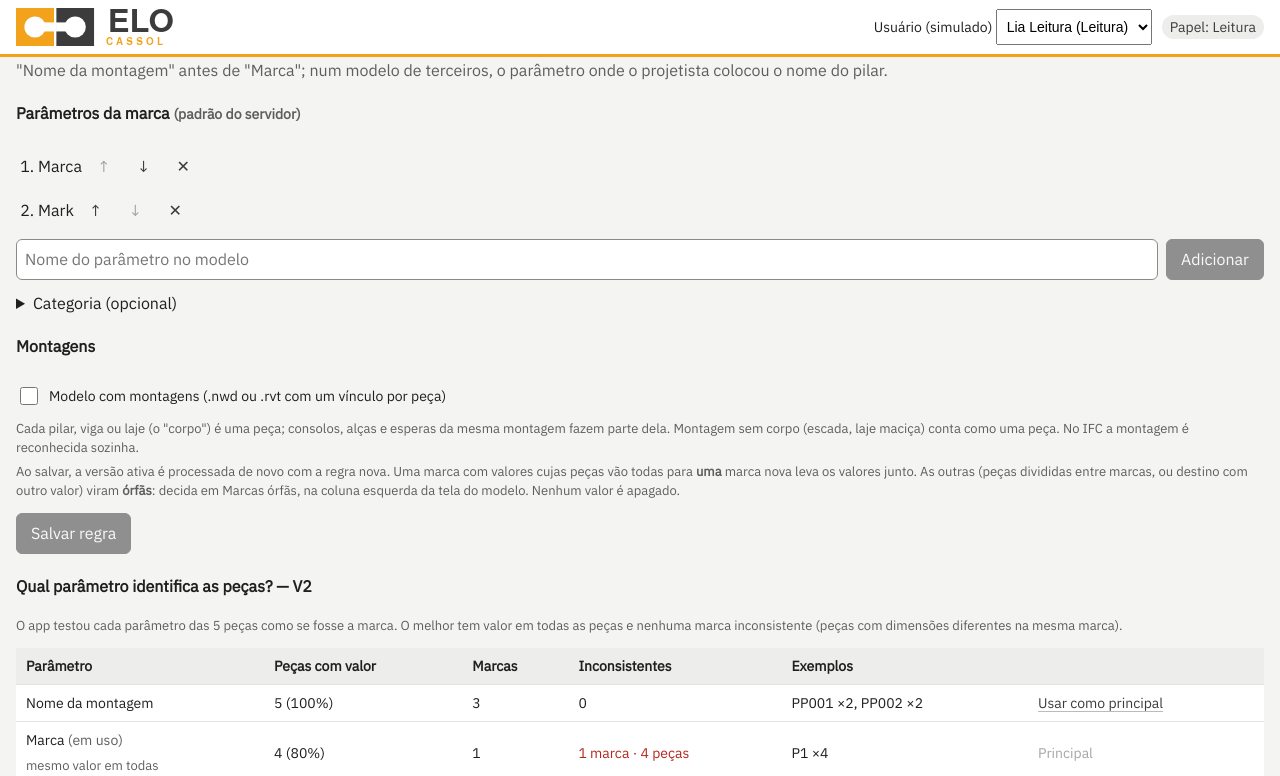
Aba Identificação das peças › mostra a regra e os candidatos da versão ativa; qualquer papel salva
(page scrolled)
Check: the text "(padrão do servidor)" is shown, box [173,105,301,123]
Check: the heading "Qual parâmetro identifica as peças? — V2" is shown, box [16,576,312,596]
Click the button with aria-label "Usar Nome da montagem como principal" at (1101, 703), box [1038,693,1163,713]
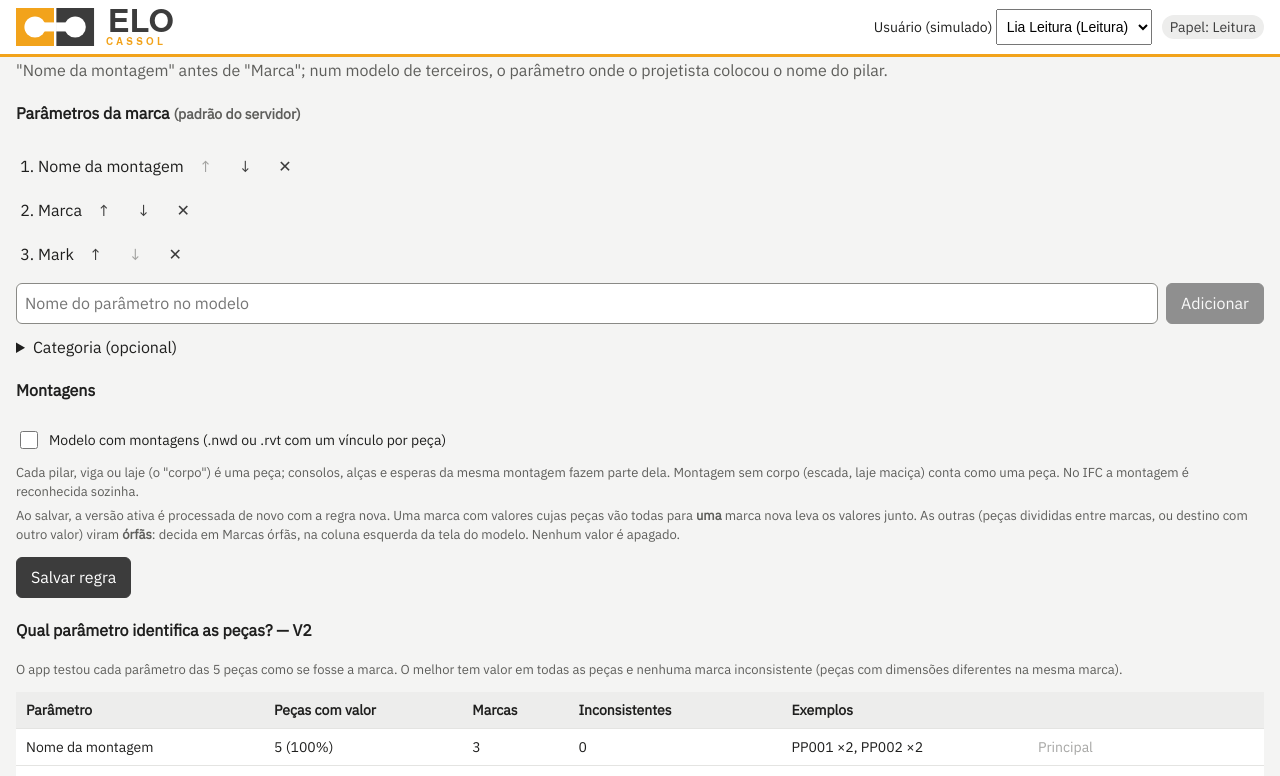
Check: the list item "Nome da montagem ↑ ↓ ✕" is shown, box [38,149,303,185]
Click the button "Salvar regra" at (74, 578), box [16,557,131,598]
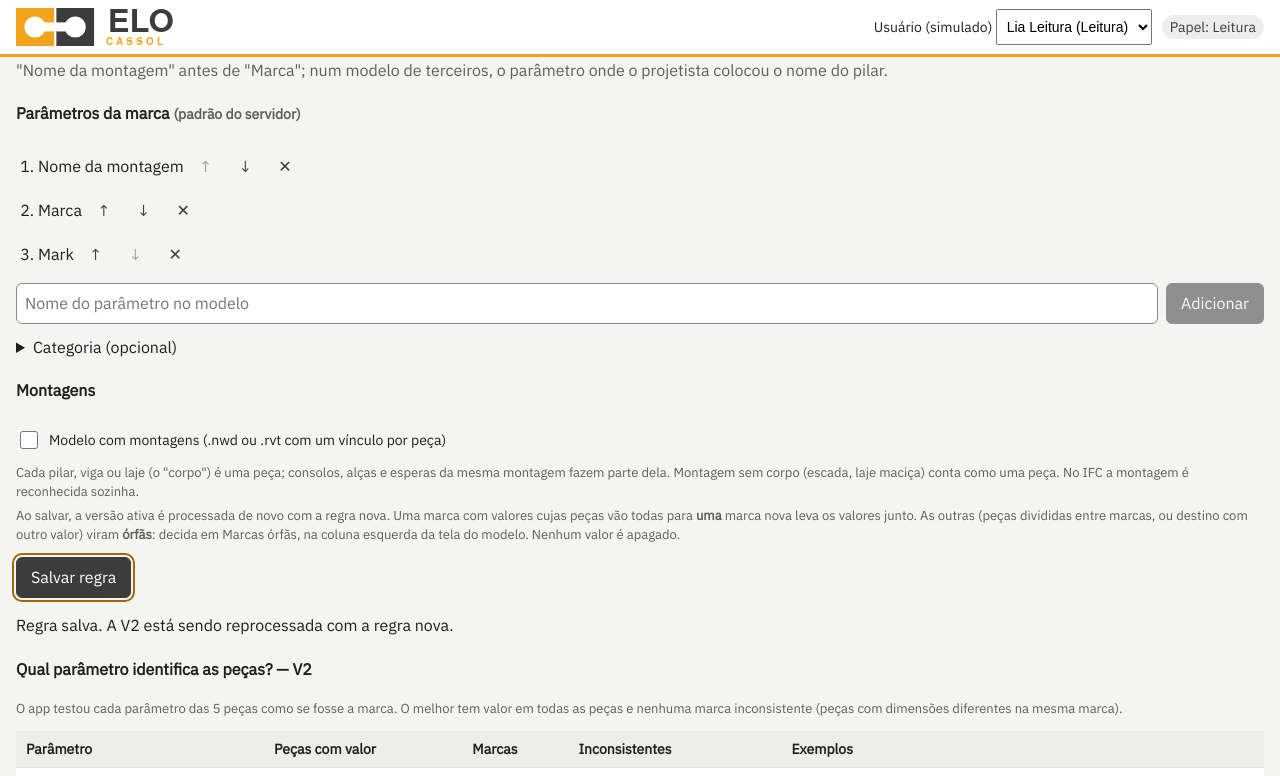
Check: the message reads "Regra salva. A V2 está sendo reprocessada com a regra nova.", box [16,615,454,635]
